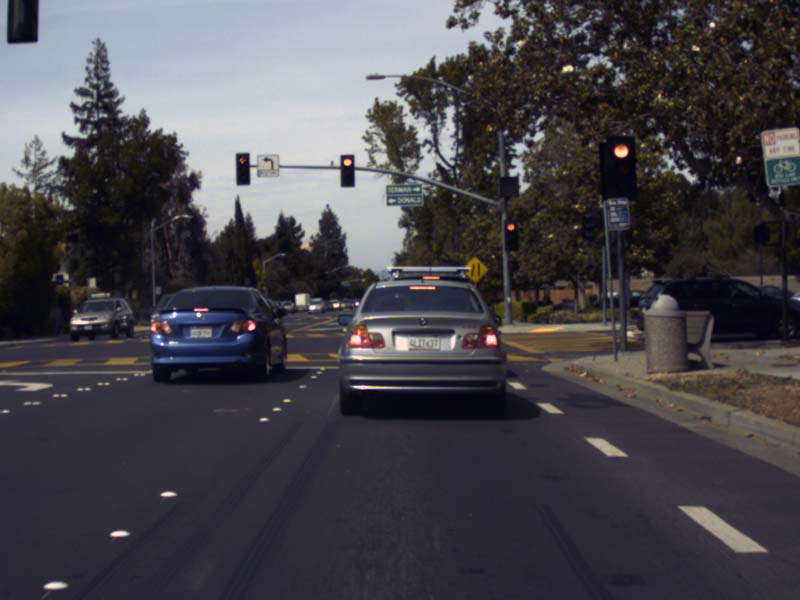Red: (606, 136, 635, 199), (339, 154, 355, 185), (503, 218, 518, 250), (235, 153, 250, 185)
